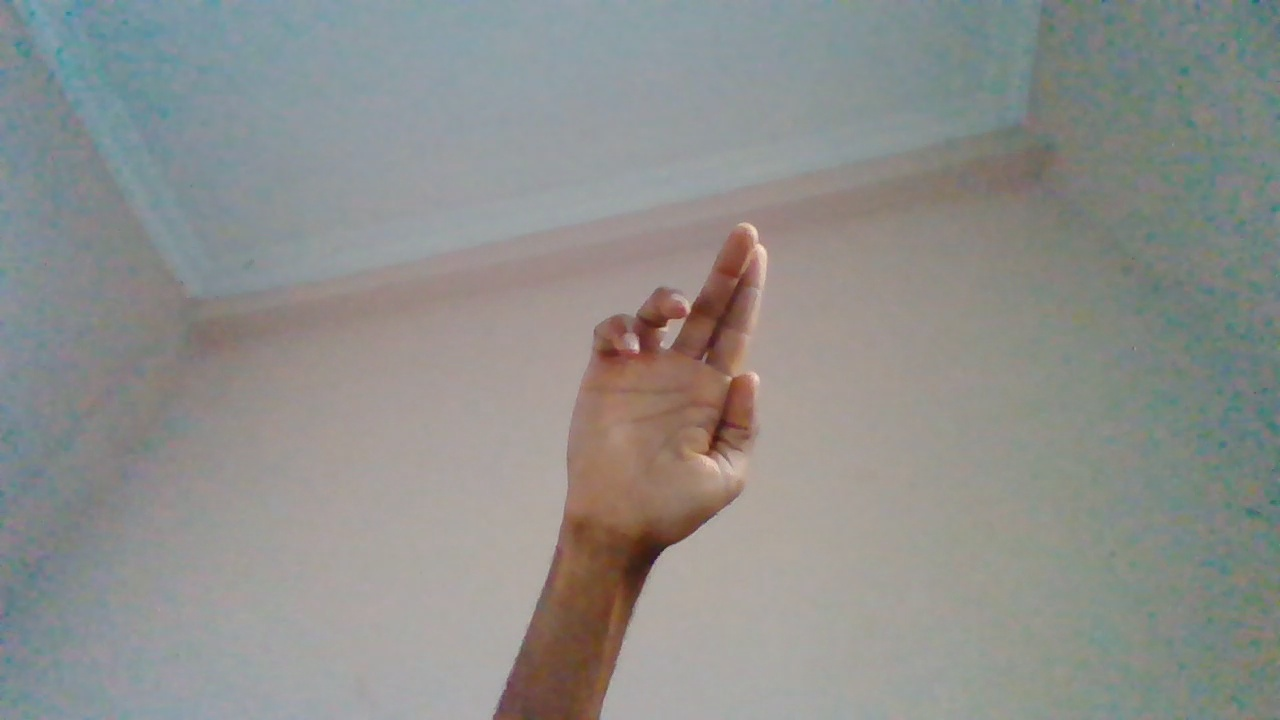gne: (566, 221, 766, 600)
